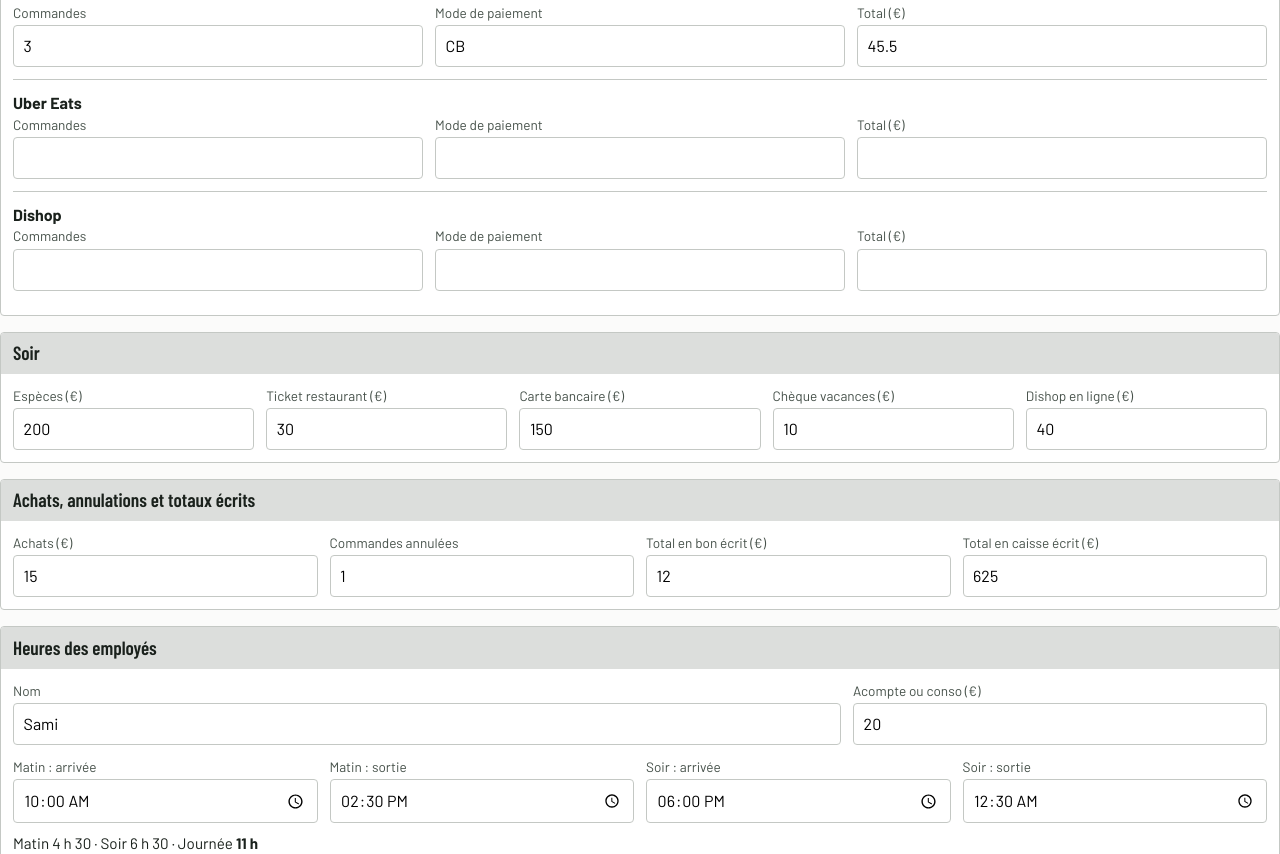
Scenario: FicheForm › corriger un montant met à jour les totaux en direct et signale le champ comme vu
This screenshot has width=1280, height=854.
(page scrolled)
Replace the text in the number field labelled "Espèces (€)" with "175" at (134, 429), box top-left (13, 408), bottom-right (254, 450)
(page scrolled)
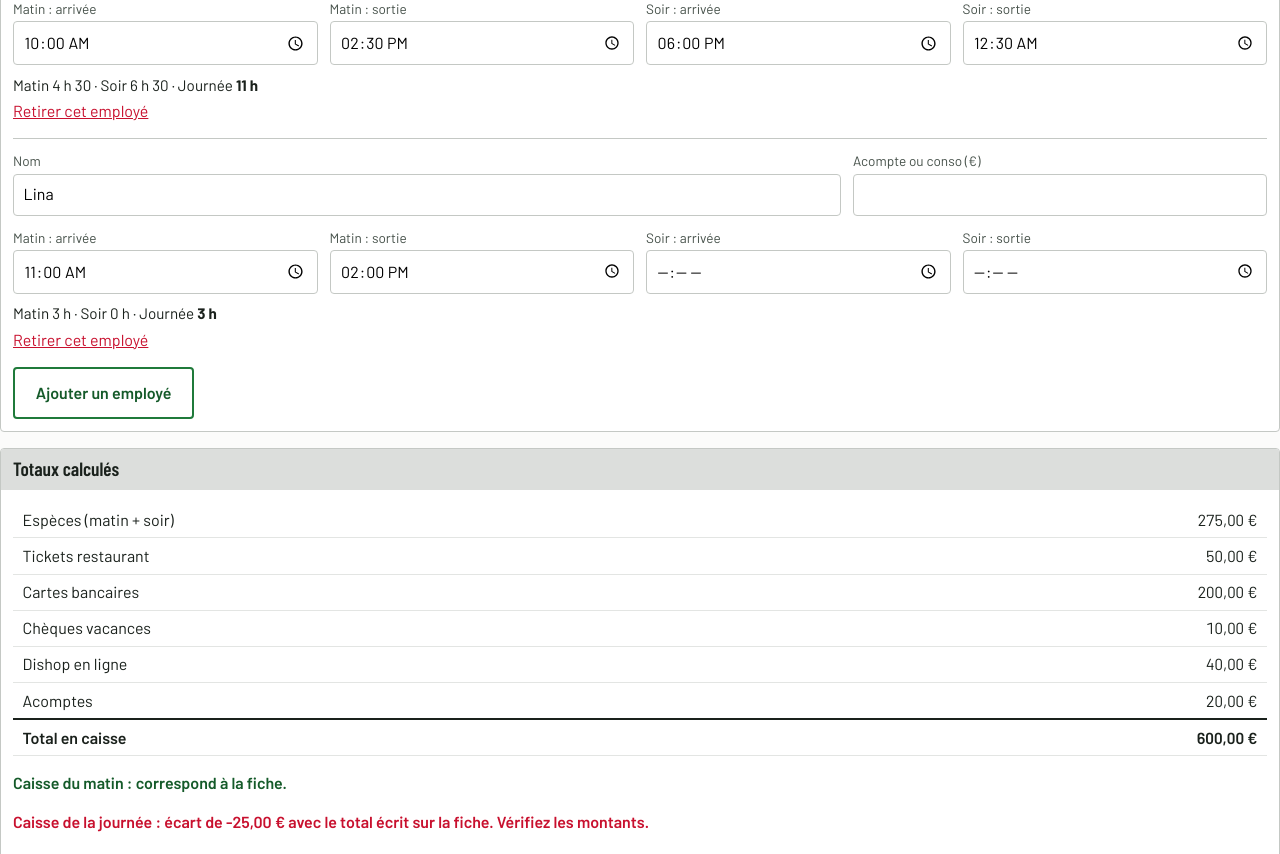
Now the text "Caisse de la journée : écart de -25,00" is shown, box top-left (13, 812), bottom-right (649, 831)
